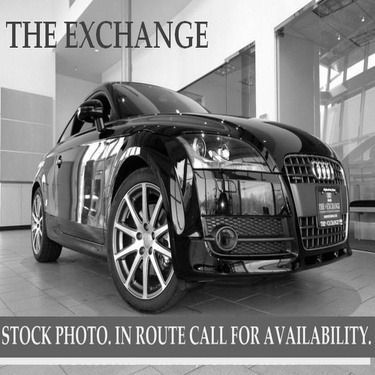car: (23, 74, 363, 317)
